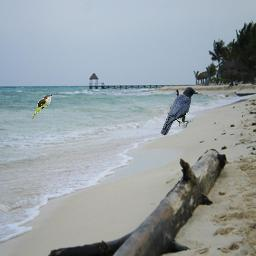Crow: (160, 86, 198, 136)
Cuckoo: (32, 95, 53, 120)
